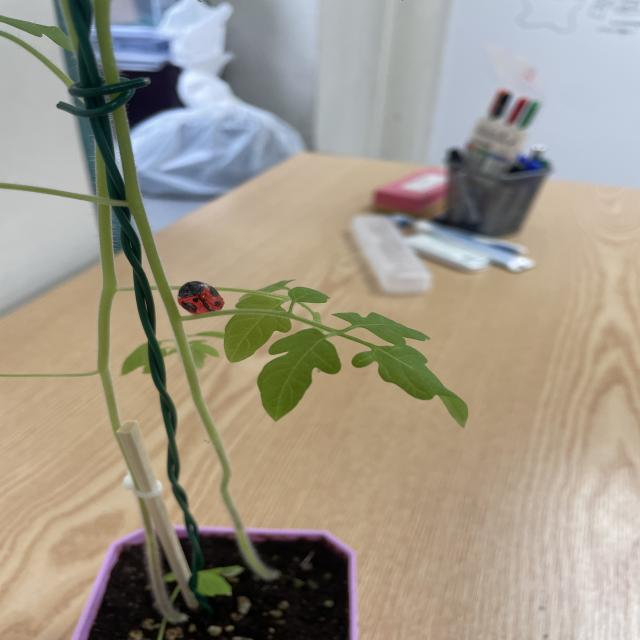bug: (163, 276, 250, 327)
